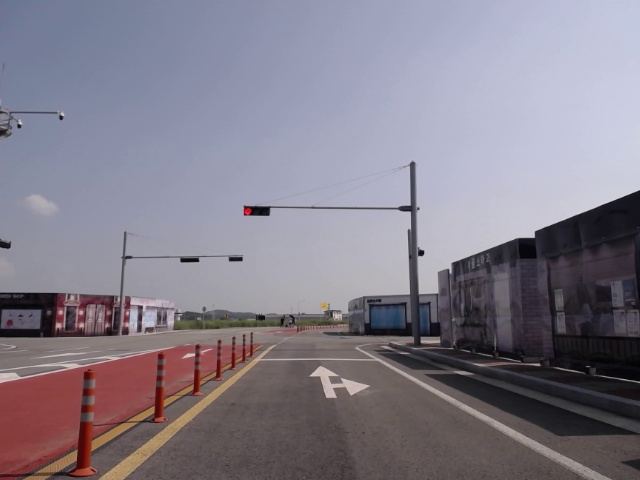red_3: (244, 207, 270, 216)
